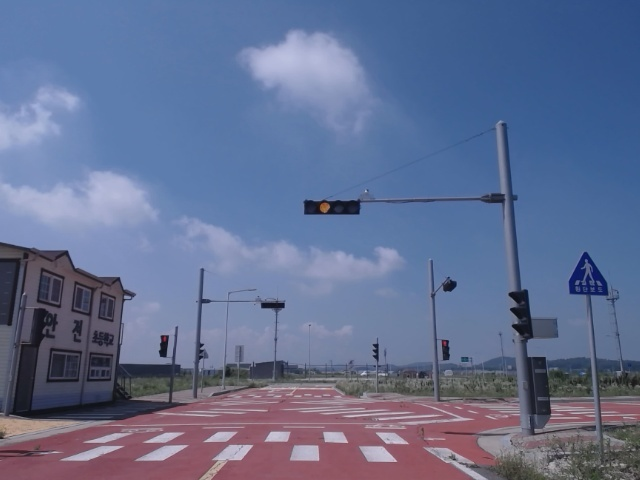orange_4: (306, 200, 361, 214)
